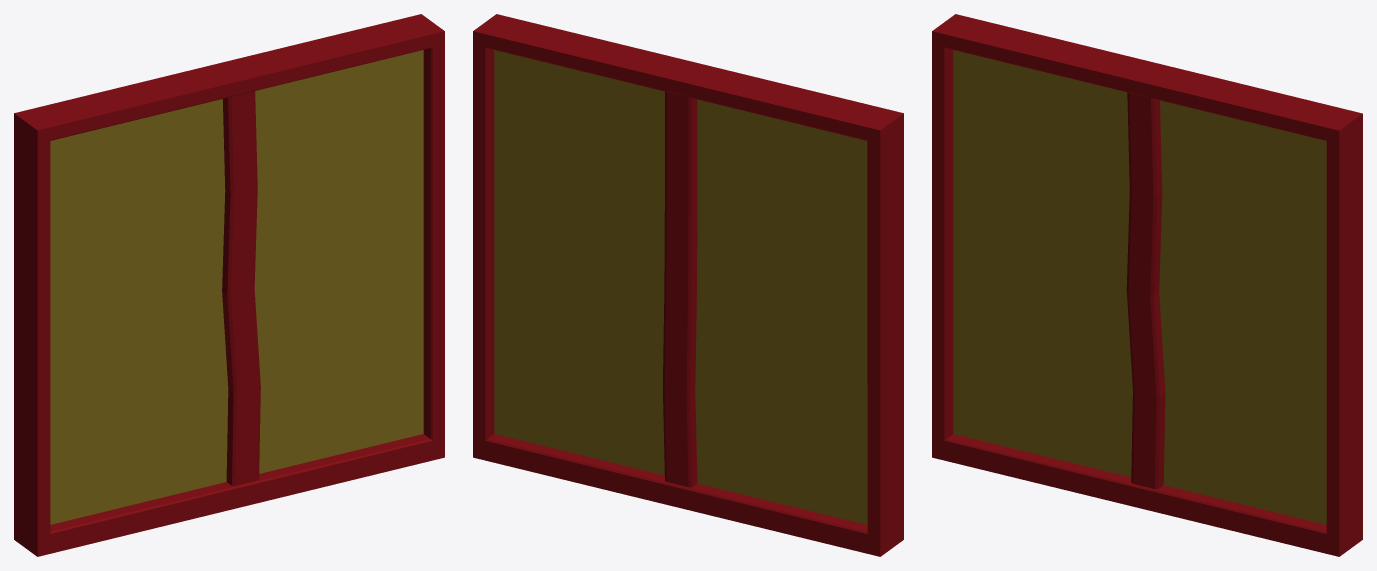
The model's file is SM_MH_01_Plaster_Wall_Indoor_01.fbx.
3 views of the same model, side by side, from view 1: azimuth 30°, elevation 25°; view 2: azimuth 150°, elevation 25°; view 3: azimuth 330°, elevation 25° (orthographic).
Parts seen in each view (by area): view 1: SM_MH_01_Plaster_Wall_Indoor_01_LOD0; view 2: SM_MH_01_Plaster_Wall_Indoor_01_LOD0; view 3: SM_MH_01_Plaster_Wall_Indoor_01_LOD0.
Part boxes in pixels (x1,y1,x2,y2): SM_MH_01_Plaster_Wall_Indoor_01_LOD0: (14, 14, 444, 556); SM_MH_01_Plaster_Wall_Indoor_01_LOD0: (473, 14, 903, 556); SM_MH_01_Plaster_Wall_Indoor_01_LOD0: (932, 14, 1362, 556).
Size of what is drawn, in the model's own units: 300 by 300 by 30.
